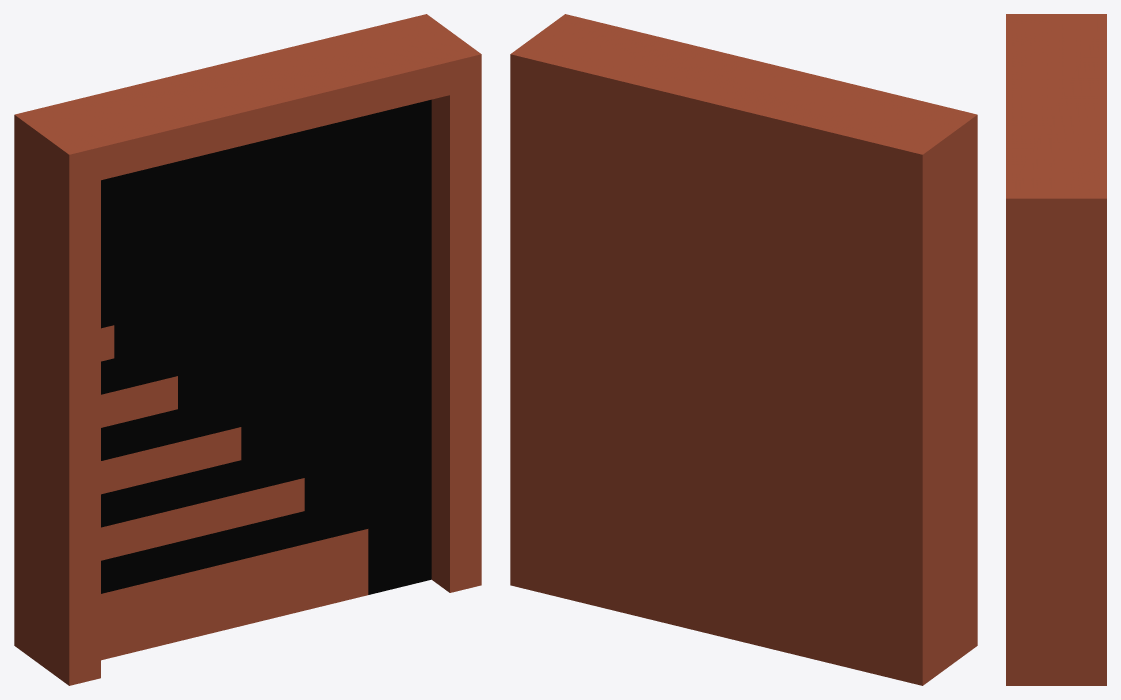
The model's file is dungeon_b_b_entrance_b_flipped.obj.
3 renders of one model, left to right at view 1: azimuth 30°, elevation 25°; view 2: azimuth 150°, elevation 25°; view 3: azimuth 270°, elevation 25°, orthographic. The views are drawn at different scales.
Size of the model in its own units: 1.3 by 1.6 by 0.3.
1 material, 1 textured.
